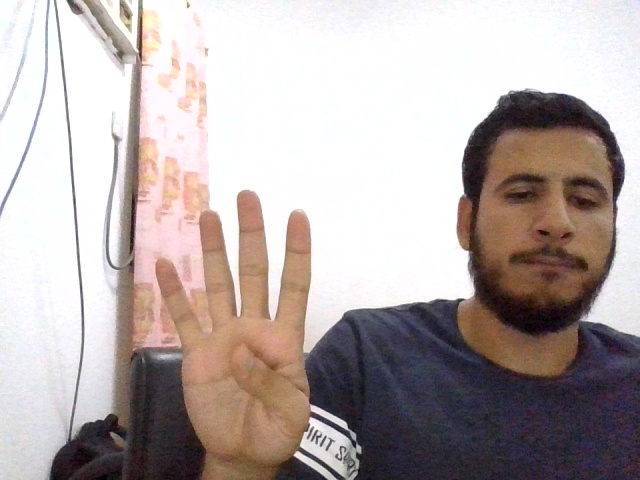Four: (155, 190, 313, 467)
